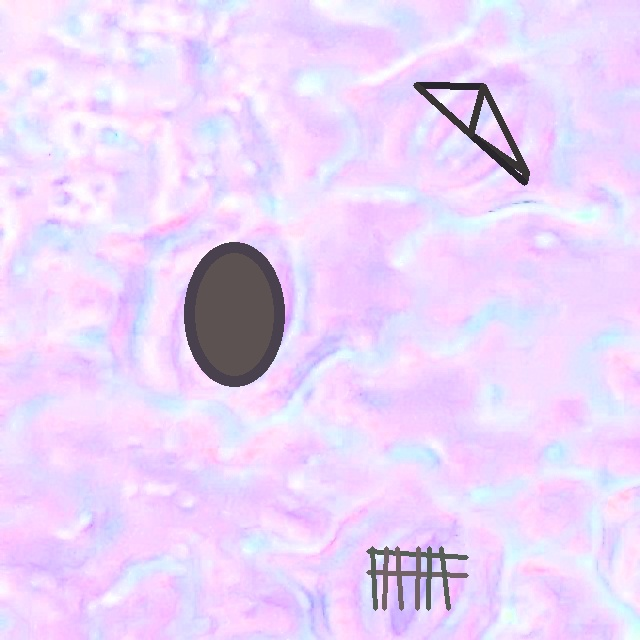open: (183, 241, 284, 386), (413, 83, 528, 184), (366, 546, 468, 609)
